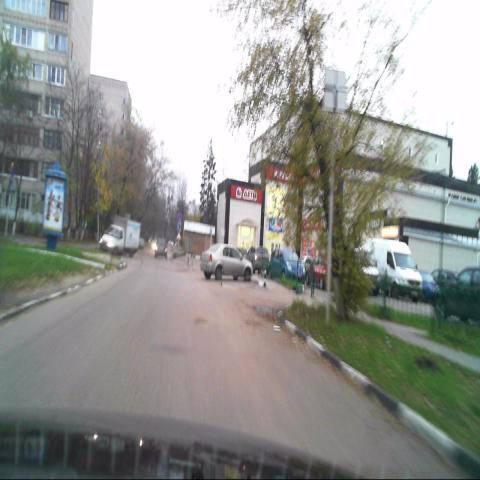8_13: (324, 71, 346, 111)
